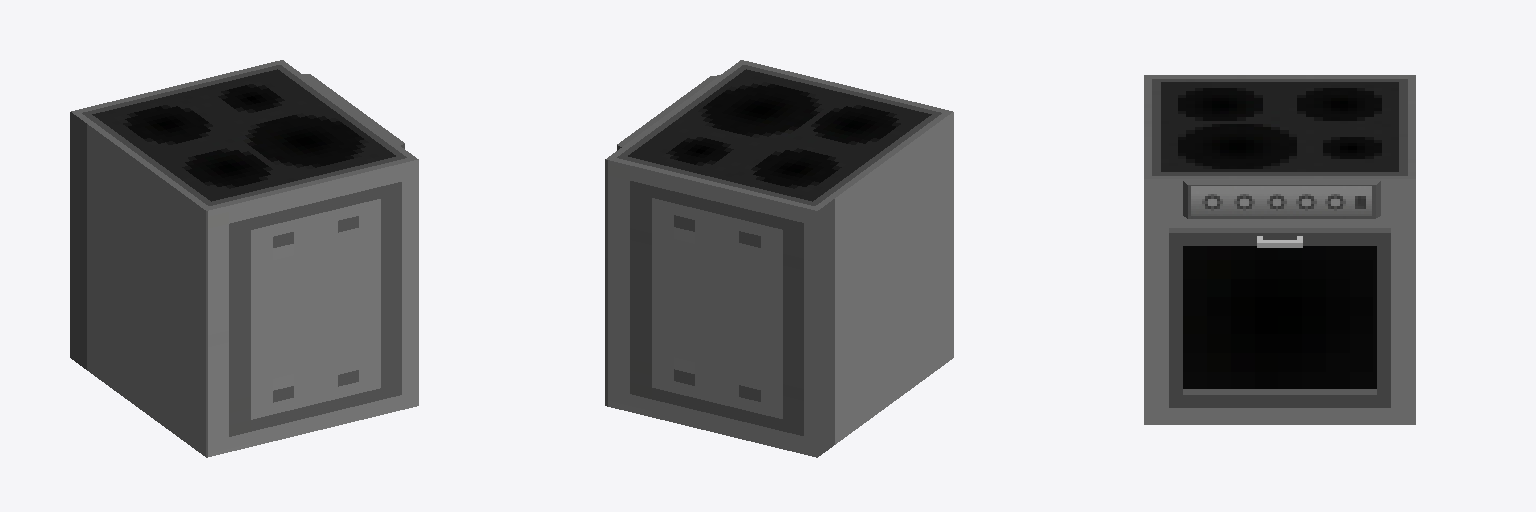
3 renders of one model, left to right at view 1: azimuth 30°, elevation 25°; view 2: azimuth 150°, elevation 25°; view 3: azimuth 270°, elevation 25°, orthographic.
Parts seen in each view (by area): view 1: kitchen_oven; view 2: kitchen_oven; view 3: kitchen_oven.
Boxes of the visible parts, <box> form: kitchen_oven: <box>70,60,418,457</box>; kitchen_oven: <box>605,60,953,457</box>; kitchen_oven: <box>1144,75,1415,424</box>.
Size of the model in its own units: 2 by 2 by 2.
Materials: 4 (2 with a texture image).